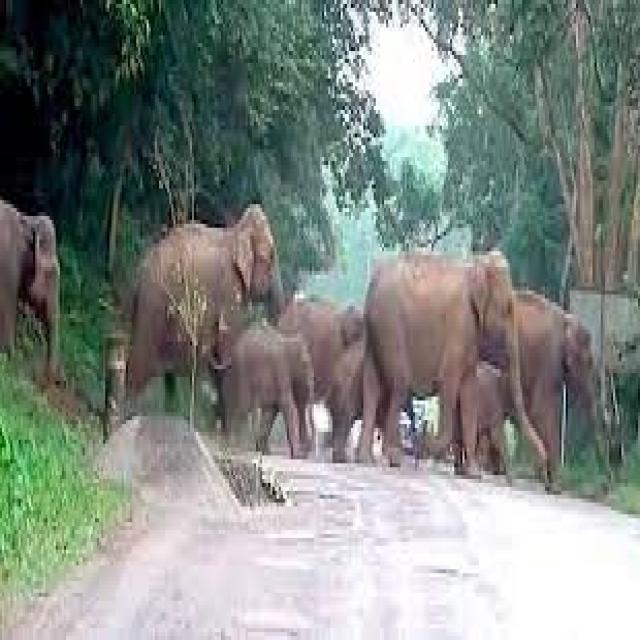Elephant: (359, 240, 519, 485), (116, 195, 293, 391), (536, 268, 616, 510), (210, 316, 324, 472), (0, 188, 72, 408), (448, 358, 534, 500)
